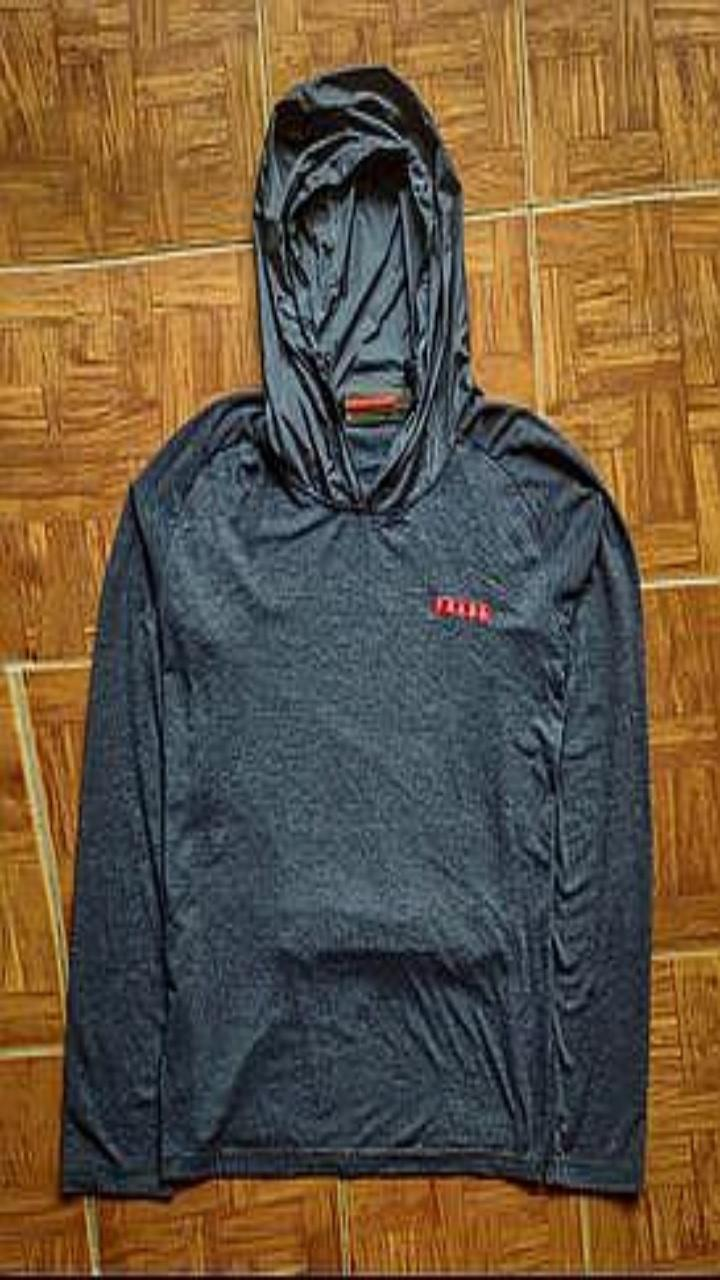Sports_Jacket: (61, 64, 652, 1198)
